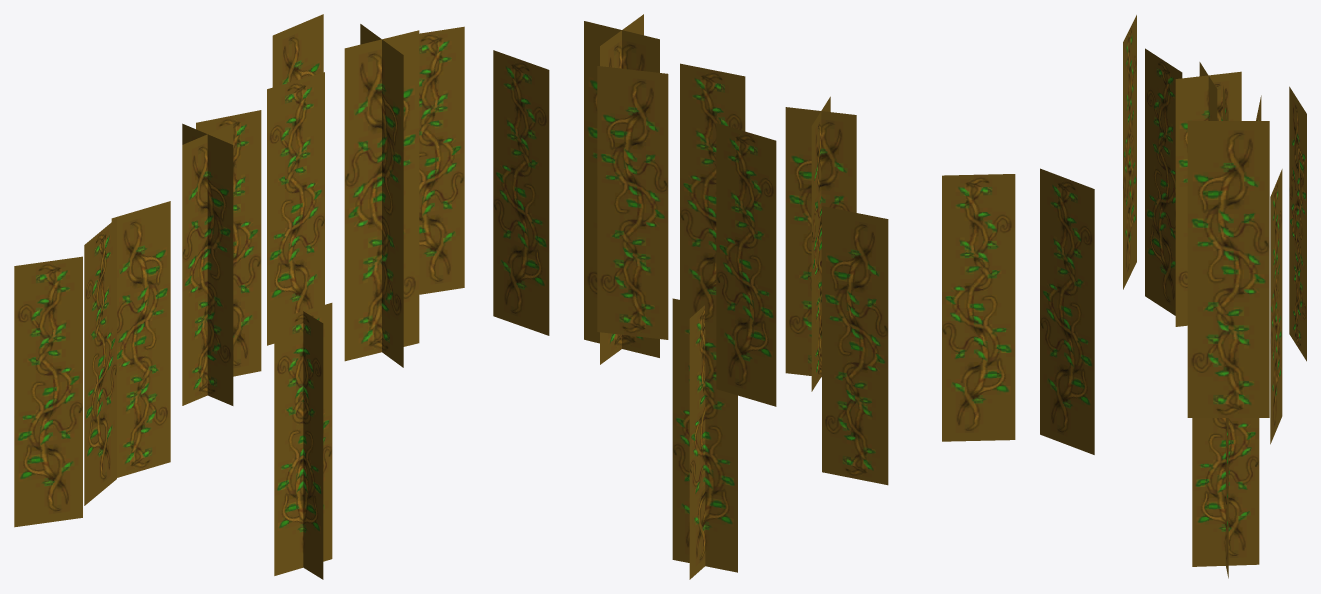
The model's file is EKH_GROTTO_PS_GR_VINES74635__GX.fbx.
3 renders of one model, left to right at view 1: azimuth 30°, elevation 25°; view 2: azimuth 150°, elevation 25°; view 3: azimuth 270°, elevation 25°, orthographic. The views are drawn at different scales.
Visible parts, largest first — view 1: EKH_GROTTO_PS_GR_VINES74635__GX; view 2: EKH_GROTTO_PS_GR_VINES74635__GX; view 3: EKH_GROTTO_PS_GR_VINES74635__GX.
Part boxes in pixels (x1,y1,x2,y2): EKH_GROTTO_PS_GR_VINES74635__GX: [14, 14, 464, 579]; EKH_GROTTO_PS_GR_VINES74635__GX: [493, 14, 1094, 579]; EKH_GROTTO_PS_GR_VINES74635__GX: [1123, 15, 1306, 578].
Bounding box in the file's own units: 57510 × 53630 × 18554.
Materials: 1 (1 with a texture image).
